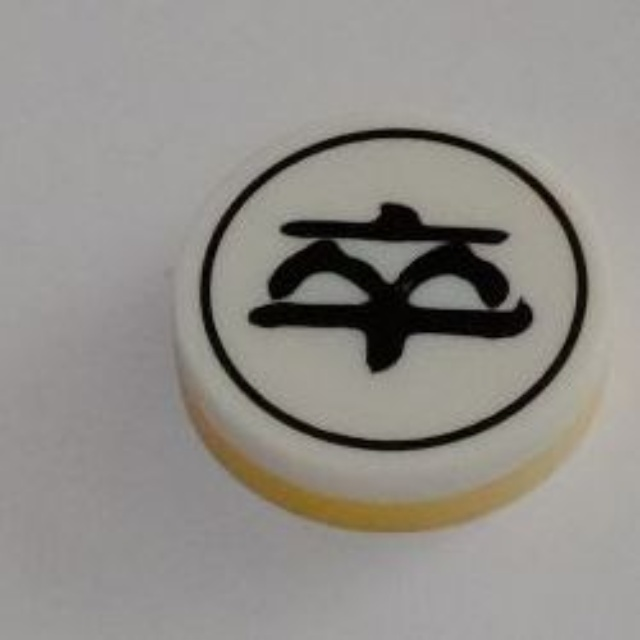black_chot: (157, 101, 620, 537)
